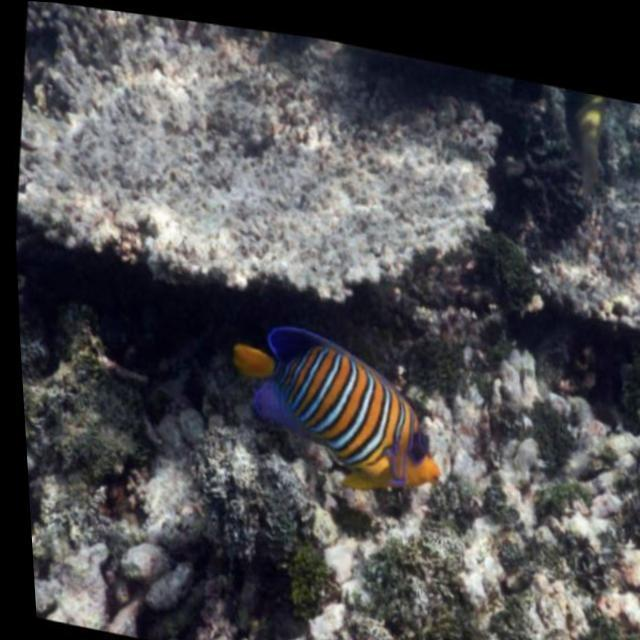Dead Coral: (27, 2, 522, 353)
